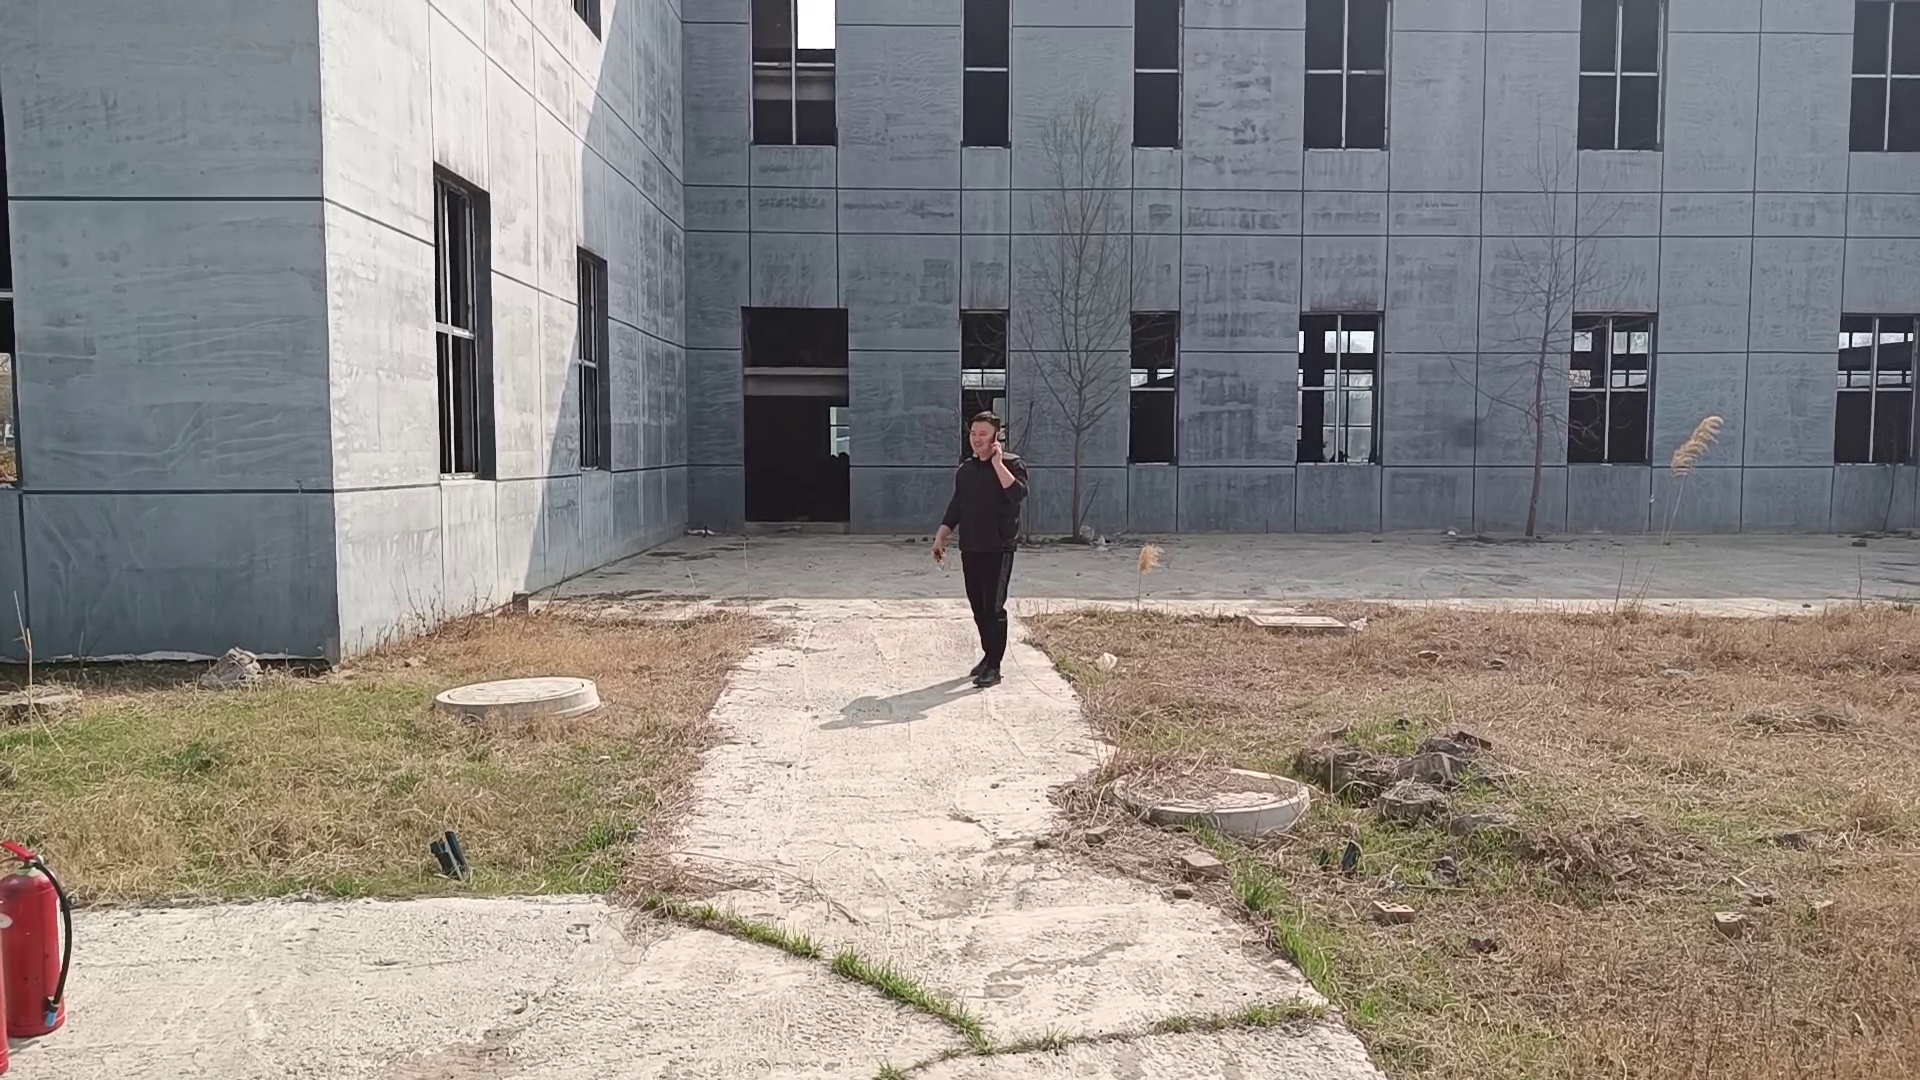phone: (968, 415, 997, 465)
